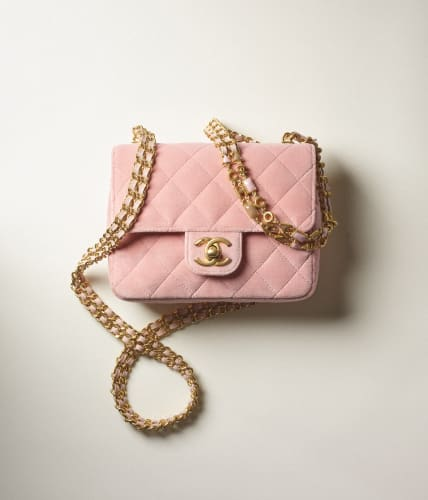channel: (102, 130, 357, 304), (213, 114, 285, 232), (159, 151, 231, 221), (177, 228, 247, 272)
